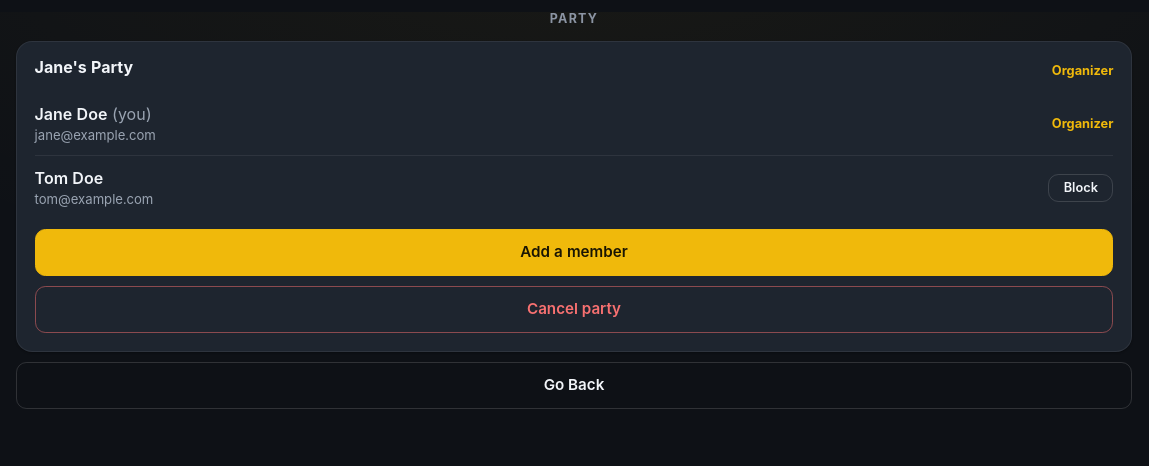
Test: blocking a member (AC-2.9) › surfaces a block failure and re-checks membership
Click the button with aria-label "Block Tom Doe" at coordinates (1081, 188), box 1048,174 -> 1113,202
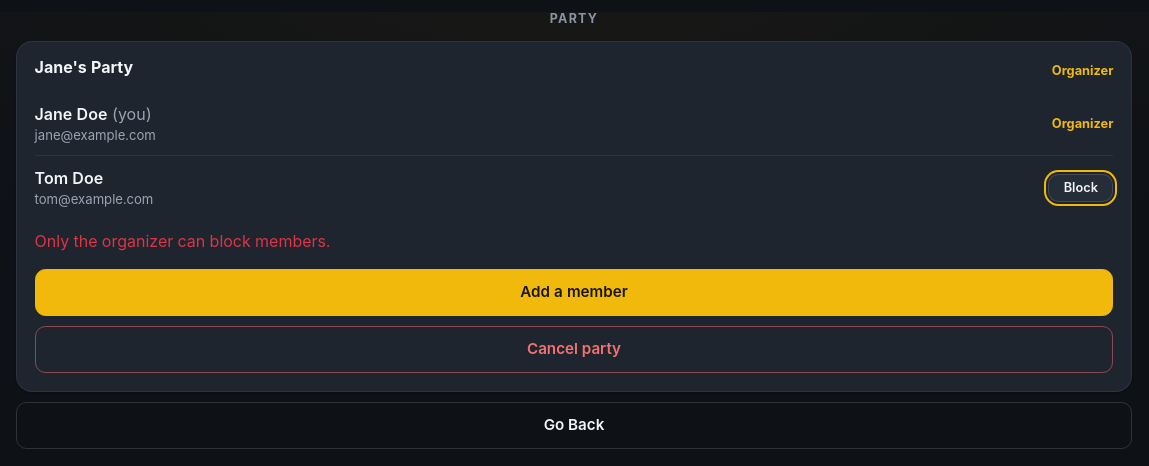
Check: the message reads "Only the organizer can block members.", box 35,231 -> 330,251
